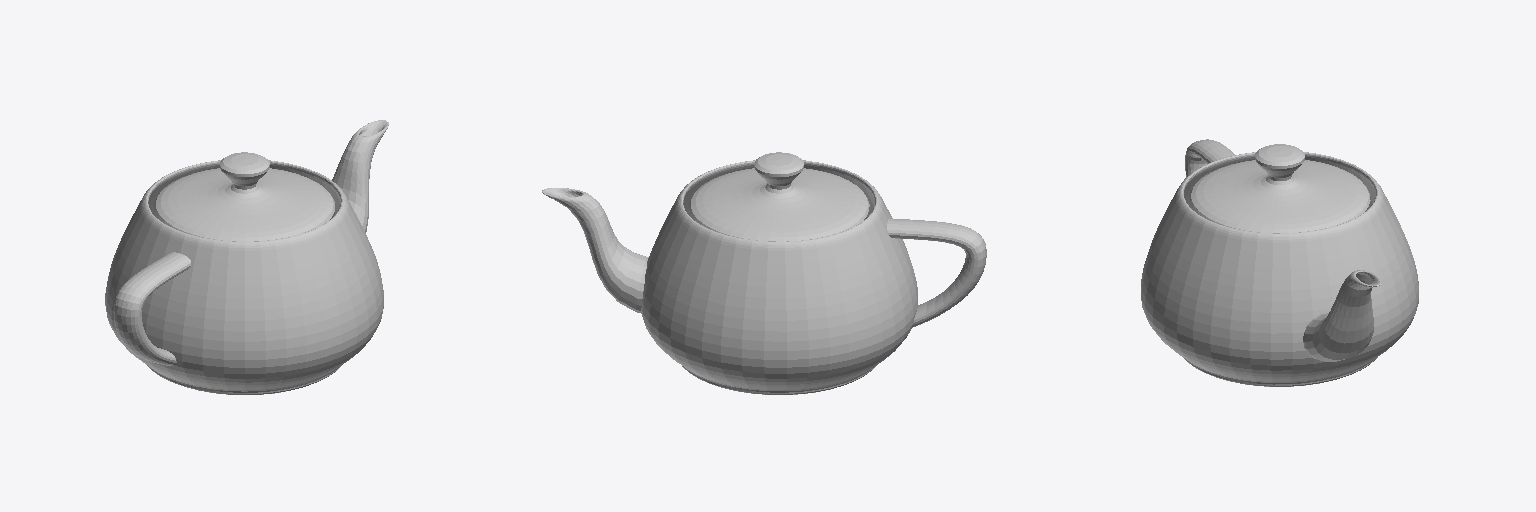
Rendered from teapot.obj.
3 renders of one model, left to right at view 1: azimuth 30°, elevation 25°; view 2: azimuth 150°, elevation 25°; view 3: azimuth 270°, elevation 25°, orthographic.
Parts seen in each view (by area): view 1: teapot; view 2: teapot; view 3: teapot.
Part boxes in pixels (left/top/right/bottom): teapot: left=105, top=120, right=388, bottom=394; teapot: left=542, top=152, right=986, bottom=394; teapot: left=1141, top=139, right=1418, bottom=386.
Size of the model in its own units: 2.35 by 1.25 by 1.59.